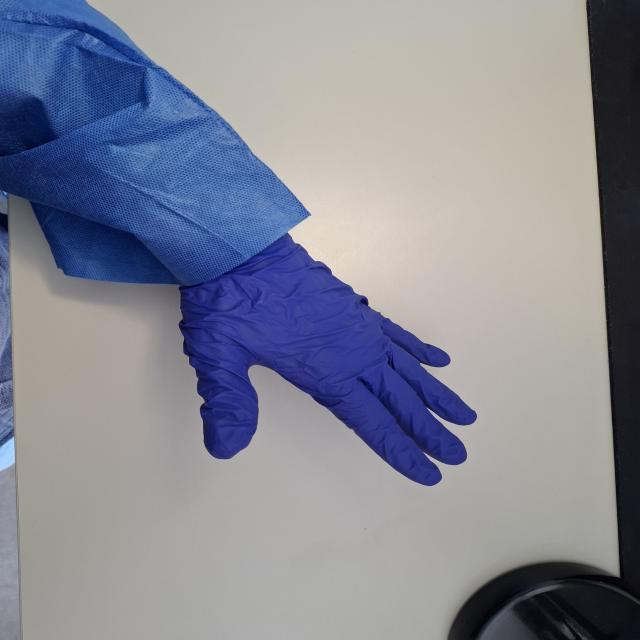glove_on: (169, 224, 482, 489)
